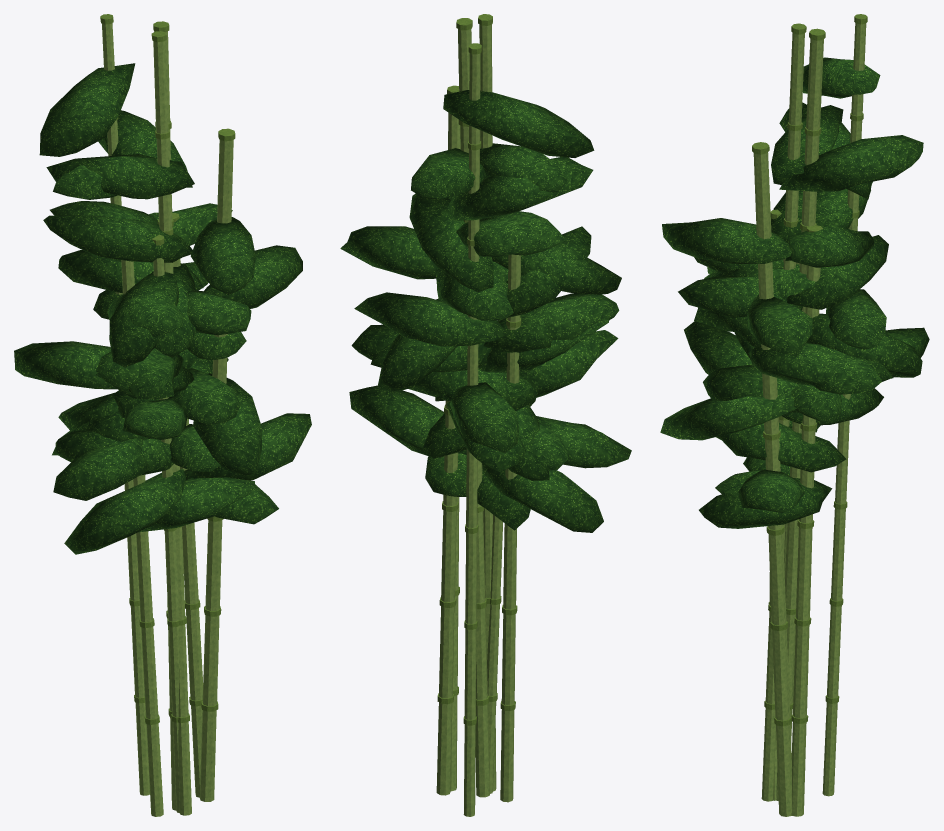
Rendered from bamboo.gltf.
The picture shows the model from 3 angles, left to right: view 1: azimuth 30°, elevation 25°; view 2: azimuth 150°, elevation 25°; view 3: azimuth 270°, elevation 25°; orthographic projection. The views are drawn at different scales.
Visible parts, largest first — view 1: BambooMesh; view 2: BambooMesh; view 3: BambooMesh.
Boxes of the visible parts, x1,y1,x2,y2 form: BambooMesh: [14, 14, 311, 816]; BambooMesh: [340, 14, 631, 816]; BambooMesh: [660, 14, 929, 816].
Size of the model in its own units: 2.46 by 6.81 by 2.16.
Materials: 3 (3 with a texture image).
